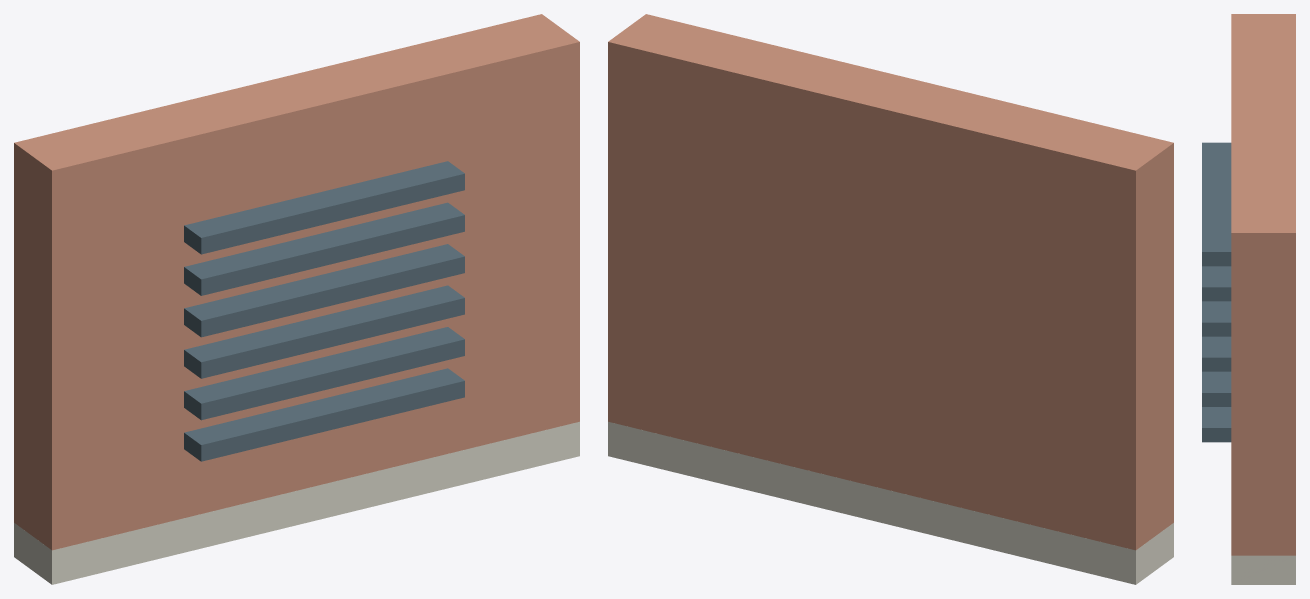
The model's file is voxel-city-districts-ventilation-bay-82107690__24810.glb.
3 views of the same model, side by side, from view 1: azimuth 30°, elevation 25°; view 2: azimuth 150°, elevation 25°; view 3: azimuth 270°, elevation 25° (orthographic). The views are drawn at different scales.
Visible parts, largest first — view 1: ventilation-bay-brick, ventilation-bay-dark, ventilation-bay-concrete; view 2: ventilation-bay-brick, ventilation-bay-concrete; view 3: ventilation-bay-brick, ventilation-bay-dark, ventilation-bay-concrete.
Boxes of the visible parts, <box> form: ventilation-bay-brick: <box>14,14,579,550</box>; ventilation-bay-dark: <box>184,161,464,461</box>; ventilation-bay-concrete: <box>14,421,579,584</box>; ventilation-bay-brick: <box>608,14,1173,550</box>; ventilation-bay-concrete: <box>608,421,1173,584</box>; ventilation-bay-brick: <box>1231,14,1295,555</box>; ventilation-bay-dark: <box>1202,142,1231,442</box>; ventilation-bay-concrete: <box>1231,555,1295,584</box>.
Bounding box in the file's own units: 4 × 3 × 0.725.
